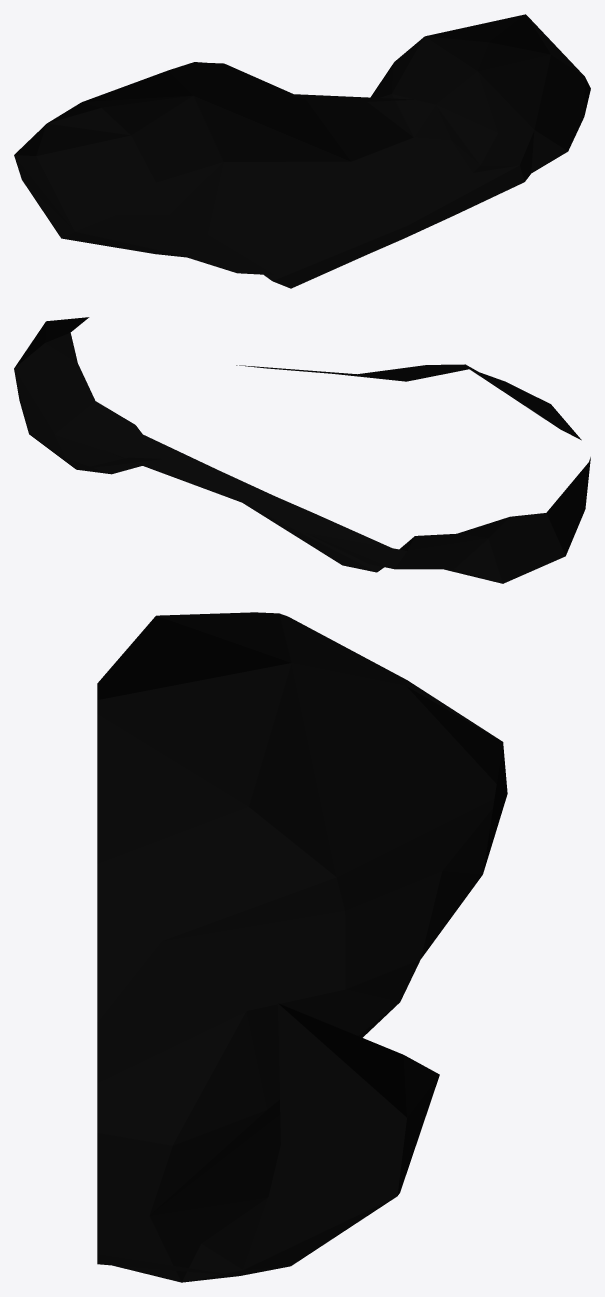
The picture shows the model from 3 angles, top to bottom: view 1: azimuth 30°, elevation 25°; view 2: azimuth 150°, elevation 25°; view 3: azimuth 270°, elevation 25°; orthographic projection. The views are drawn at different scales.
Size of the model in its own units: 0.8428 by 0.3033 by 0.2828.
Materials: 1 (1 with a texture image).
